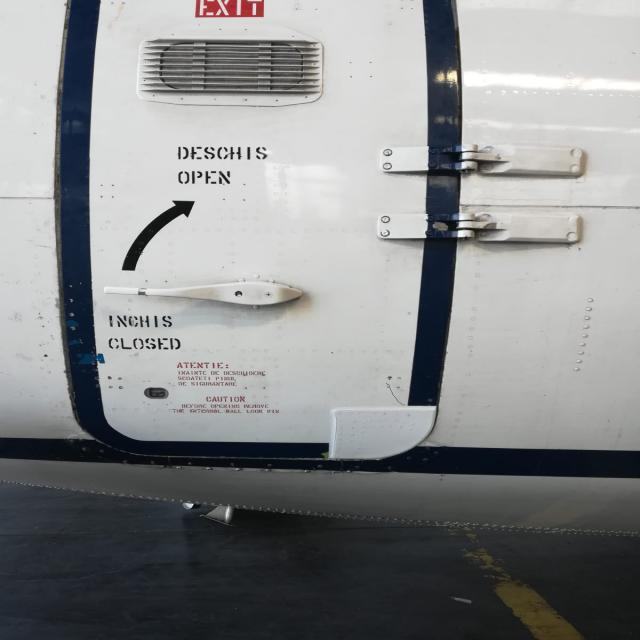crack: (380, 377, 411, 407)
